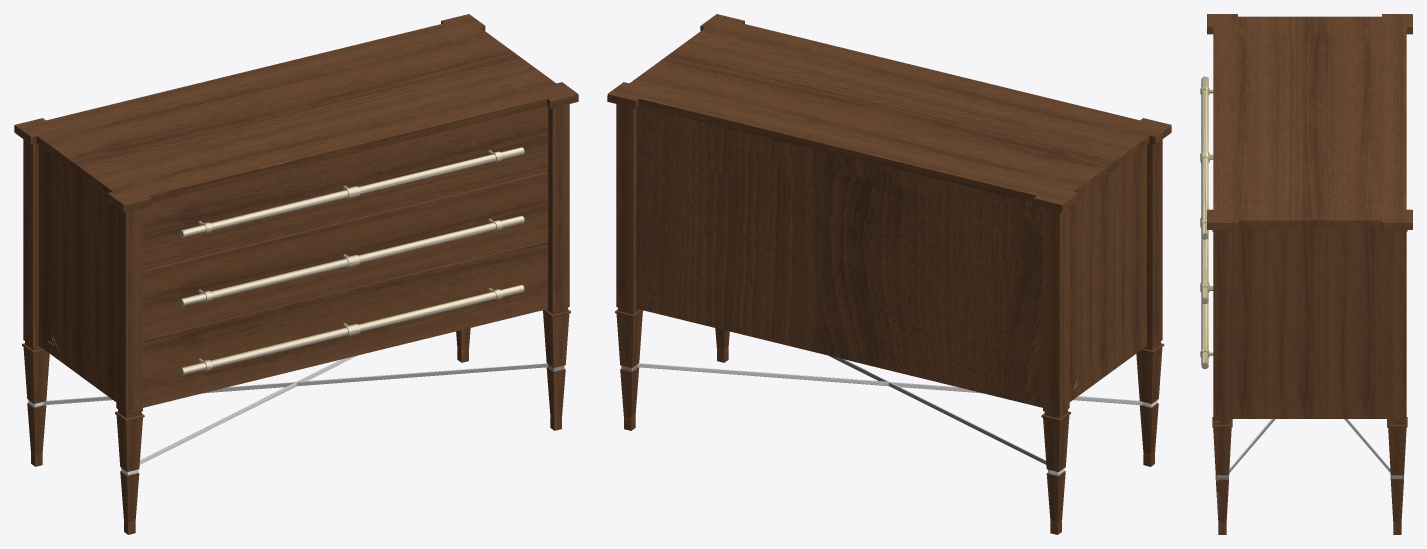
File: raw_model.obj
3 views of the same model, side by side, from view 1: azimuth 30°, elevation 25°; view 2: azimuth 150°, elevation 25°; view 3: azimuth 270°, elevation 25° (orthographic). The views are drawn at different scales.
Parts seen in each view (by area): view 1: solid_001, solid_002, solid_003; view 2: solid_001, solid_003; view 3: solid_001, solid_002, solid_003.
Part boxes in pixels (x1,y1,x2,y2): solid_001: (14,14,578,534); solid_002: (179,147,524,375); solid_003: (28,355,564,475); solid_001: (607,14,1171,534); solid_003: (621,356,1157,475); solid_001: (1207,14,1412,534); solid_002: (1200,76,1213,369); solid_003: (1216,419,1403,478).
Size of the model in its own units: 1.2 by 0.85 by 0.5167.
1 material, 1 textured.
